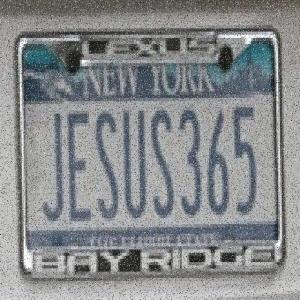Plate: (11, 15, 293, 294)
